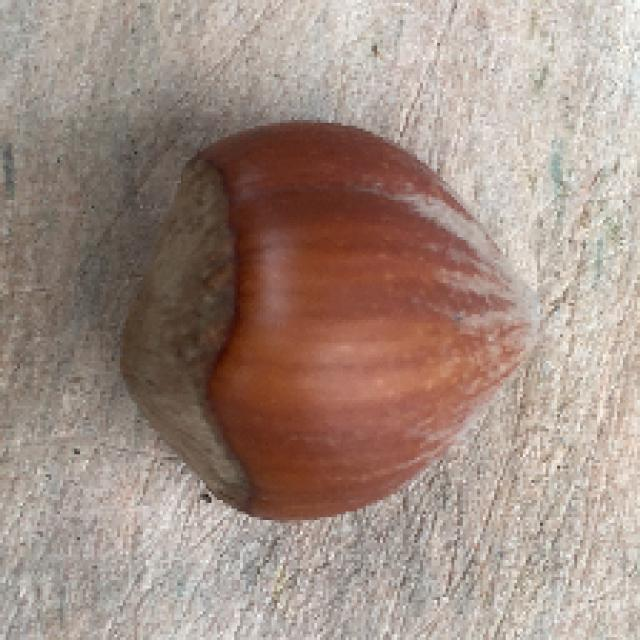qualityHazelnut: (112, 122, 539, 528)
